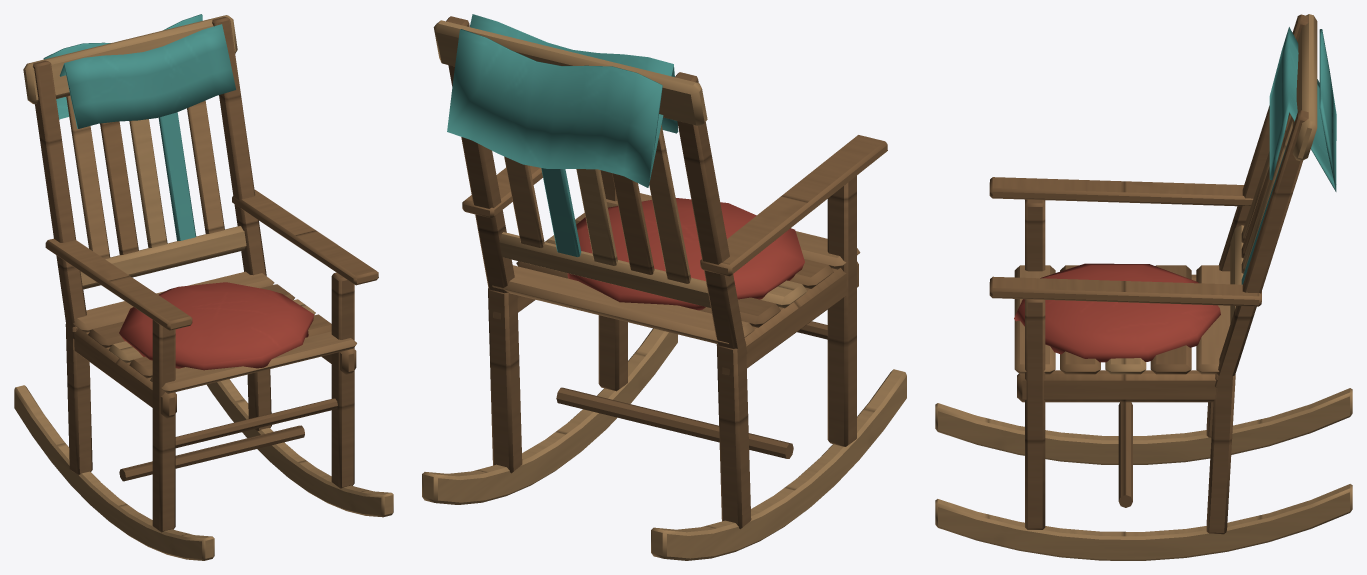
File: rocking_chair.glb
The picture shows the model from 3 angles, left to right: view 1: azimuth 30°, elevation 25°; view 2: azimuth 150°, elevation 25°; view 3: azimuth 270°, elevation 25°; orthographic projection. The views are drawn at different scales.
Visible parts, largest first — view 1: rocking_chair; view 2: rocking_chair; view 3: rocking_chair.
Boxes of the visible parts, x1,y1,x2,y2 form: rocking_chair: (14, 14, 393, 560); rocking_chair: (422, 14, 906, 560); rocking_chair: (935, 14, 1352, 560).
Bounding box in the file's own units: 0.59 × 1.08 × 0.92.
Materials: 9 (9 with a texture image).
